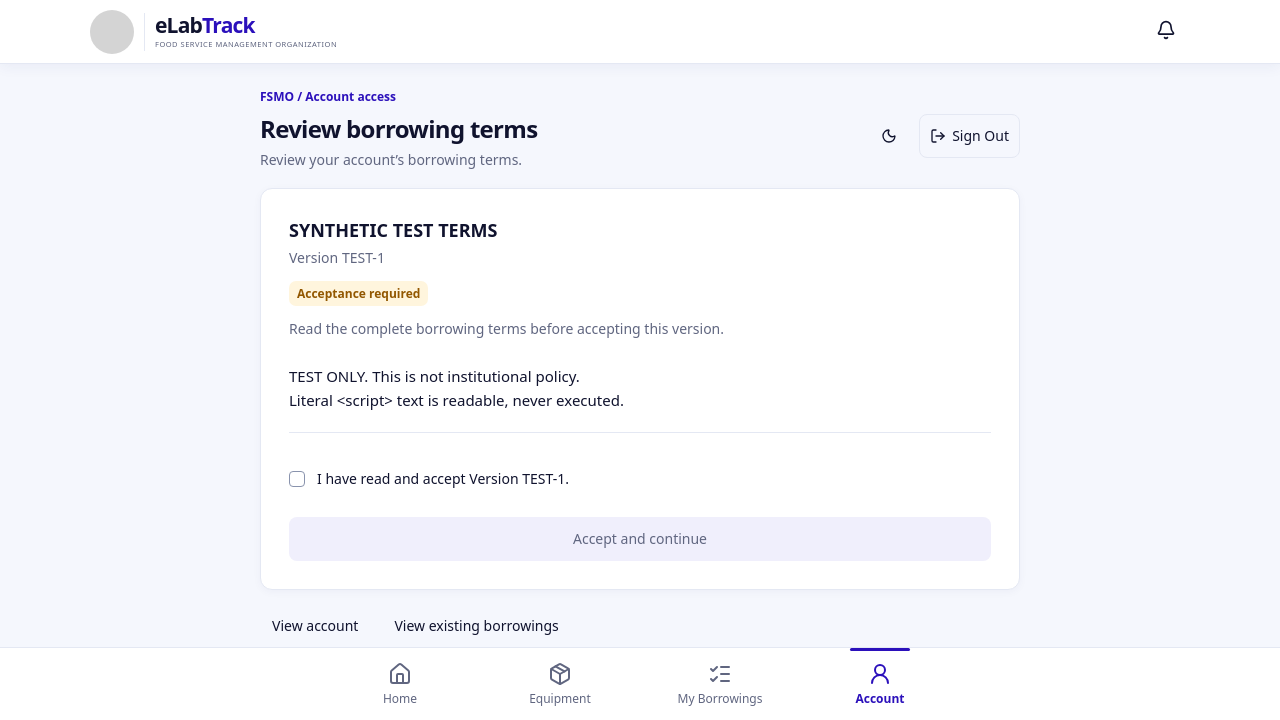
Phase 4B authoritative terms experience › records only the reviewed version, prevents pending duplicates and proceeds after server success
Click the checkbox named "I have read and accept Version TEST-1." at (297, 479), box [289,471,305,487]
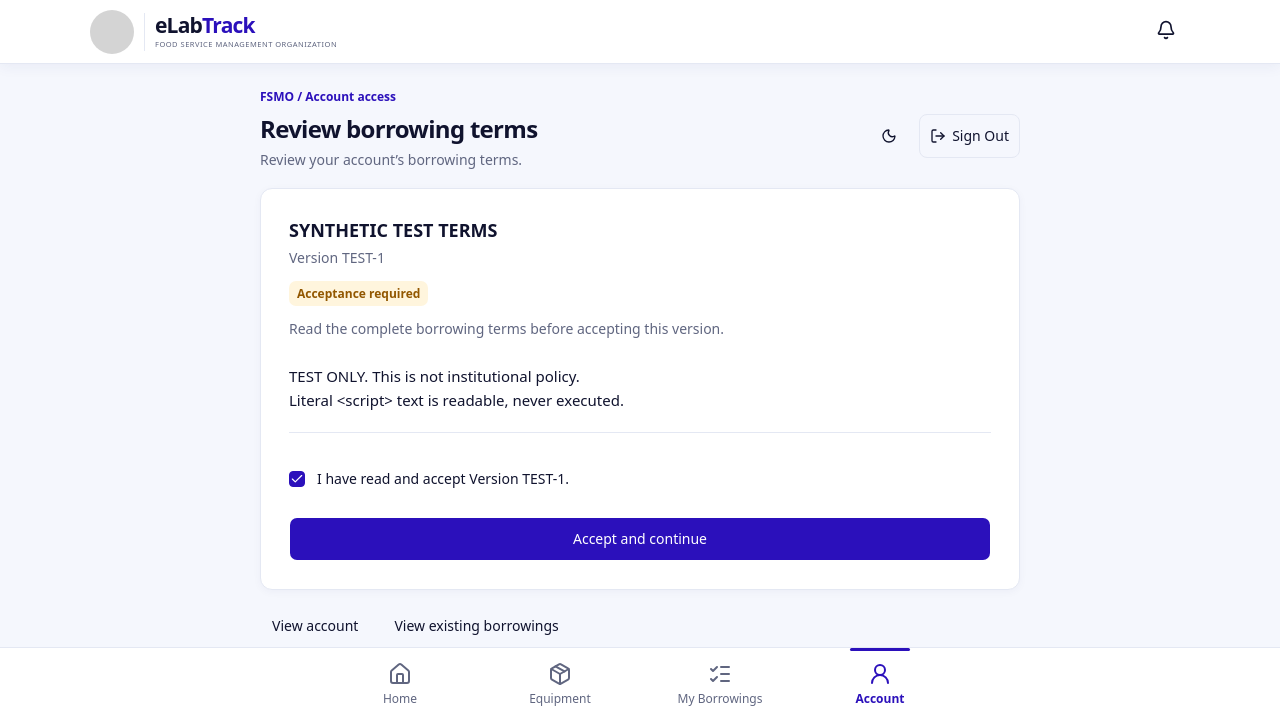
Click the button "Accept and continue" at (640, 539), box [289,517,991,561]
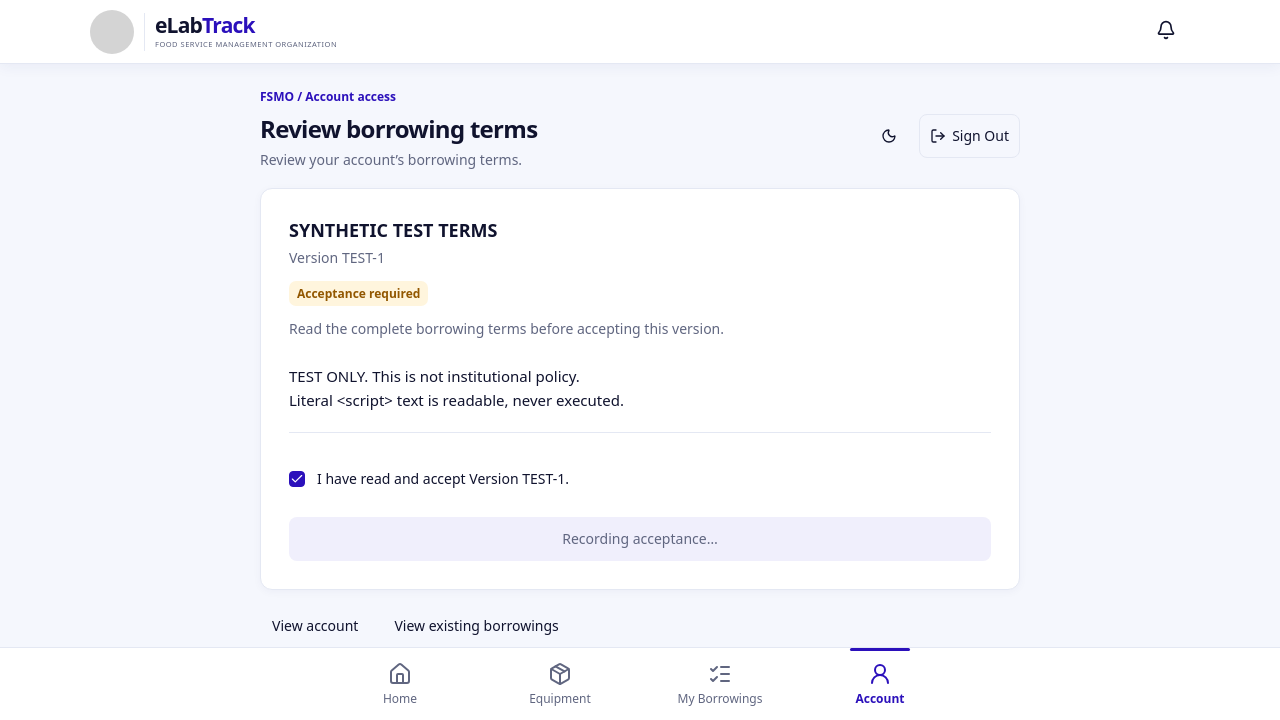
Expected: the button "Recording acceptance…" is disabled
Click the button "Recording acceptance…" at (640, 539), box [289,517,991,561]
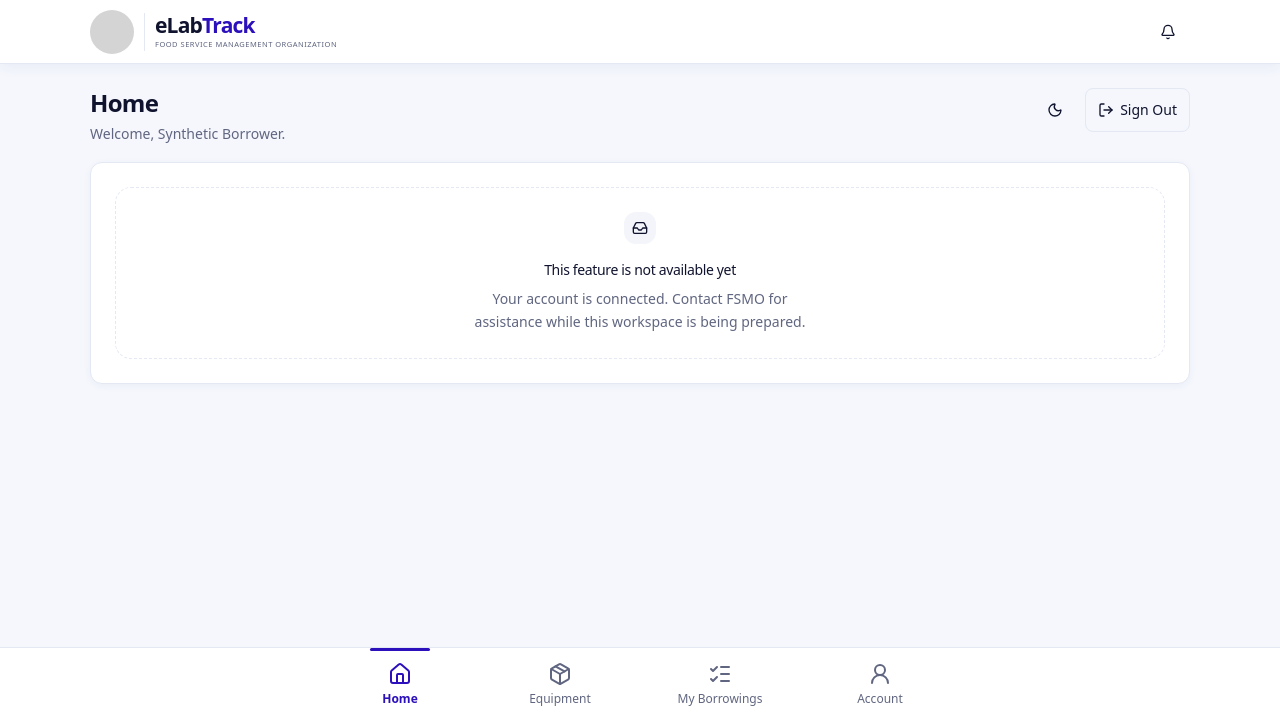
Expected: the text "This feature is not available yet" is shown, [544,260,736,280]
